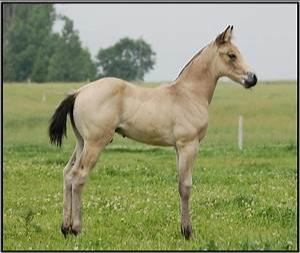horse: (47, 24, 257, 240)
